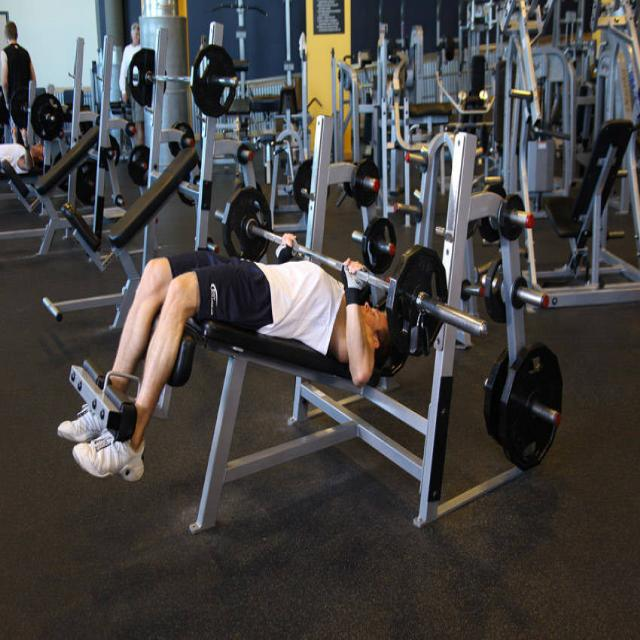bench: (47, 150, 492, 525)
